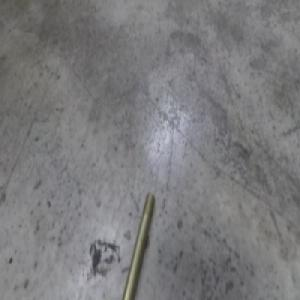Bolt: (124, 192, 155, 294)
